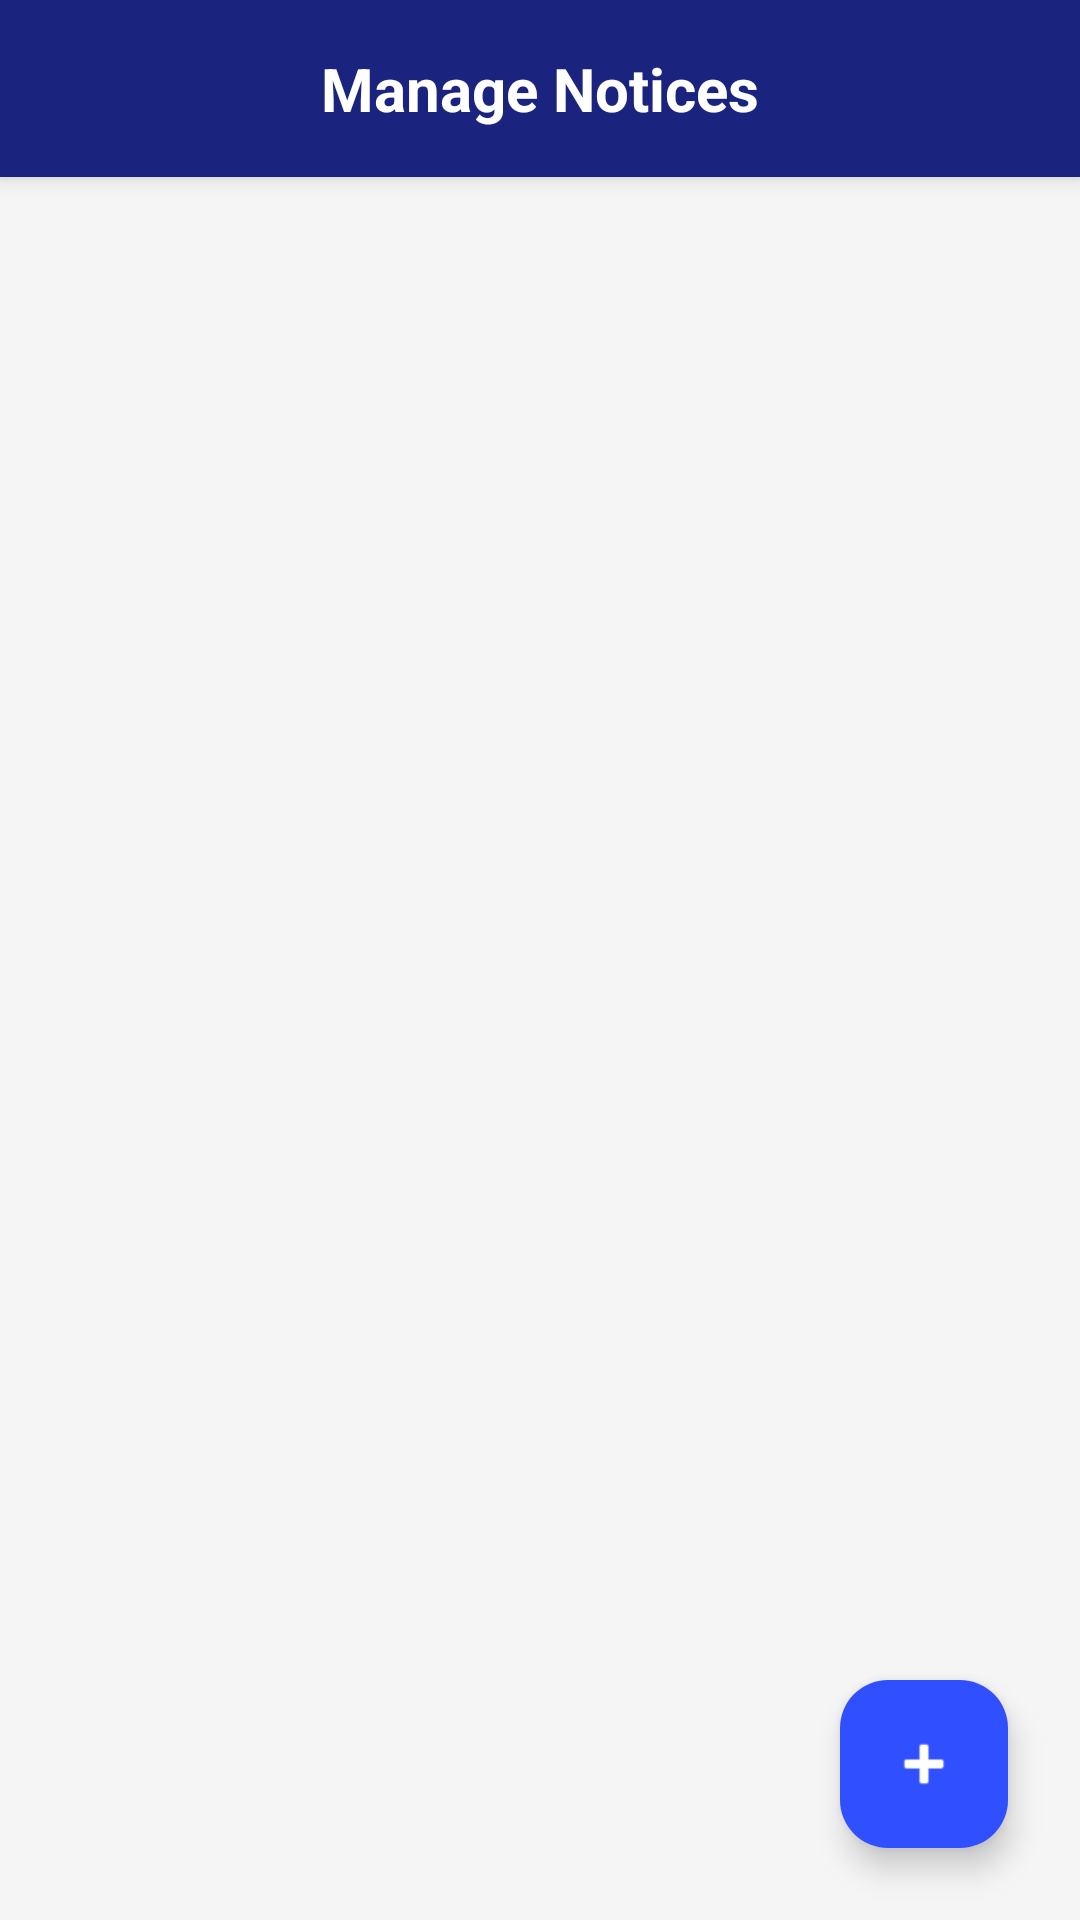

Named icons in this screenshot (1080×1920) and their bounding boxes, (x1, y1, x2, y2):
Add Notice: (840, 1680, 1008, 1848)
